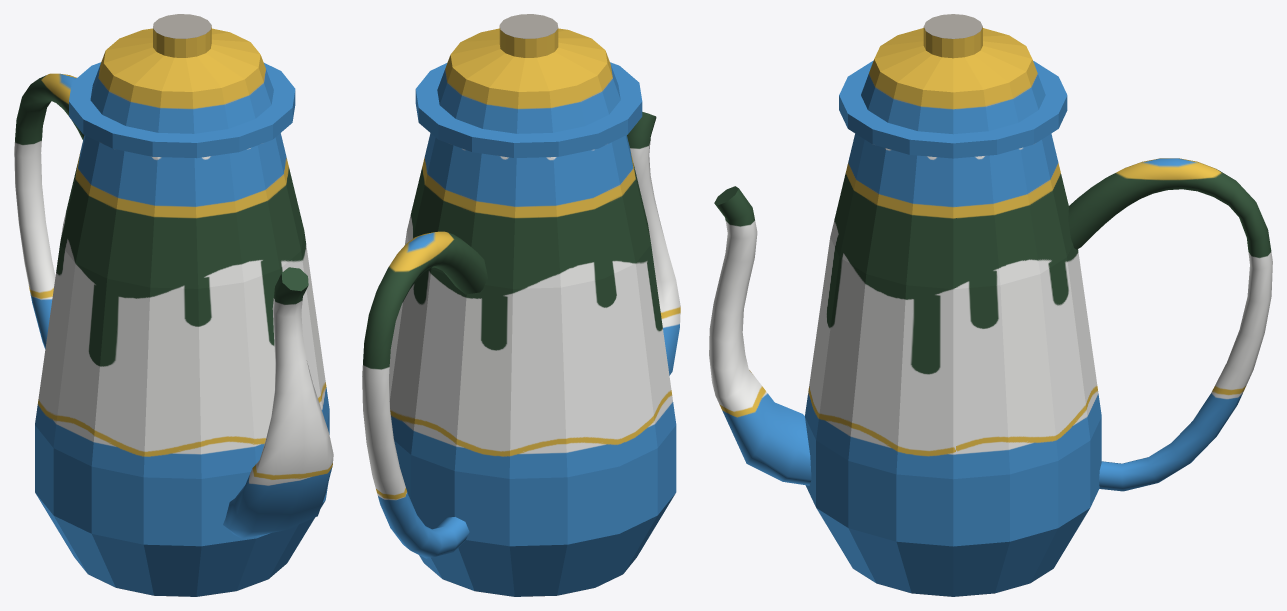
Rendered from TeapotTex.glb.
The picture shows the model from 3 angles, left to right: view 1: azimuth 30°, elevation 25°; view 2: azimuth 150°, elevation 25°; view 3: azimuth 270°, elevation 25°; orthographic projection.
Visible parts, largest first — view 1: TeapotTex; view 2: TeapotTex; view 3: TeapotTex.
Boxes of the visible parts, bbox=[...] form: TeapotTex: bbox=[14, 14, 333, 596]; TeapotTex: bbox=[362, 14, 680, 596]; TeapotTex: bbox=[709, 14, 1272, 596].
Bounding box in the file's own units: 2 × 3.9 × 3.8.
Materials: 1 (1 with a texture image).
